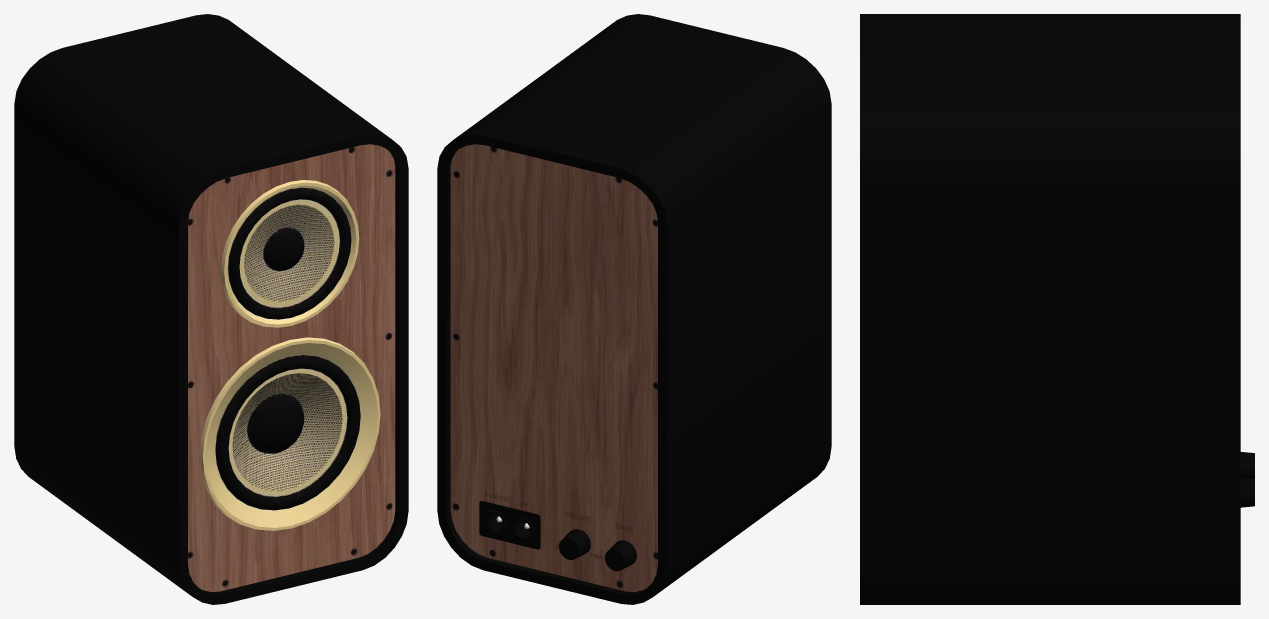
File: mdl_paprika_speaker.gltf
The picture shows the model from 3 angles, left to right: view 1: azimuth 30°, elevation 25°; view 2: azimuth 150°, elevation 25°; view 3: azimuth 270°, elevation 25°; orthographic projection. The views are drawn at different scales.
Visible parts, largest first — view 1: speaker_01; view 2: speaker_01; view 3: speaker_01.
Boxes of the visible parts, left/top/right/bottom form: speaker_01: left=14, top=14, right=408, bottom=604; speaker_01: left=437, top=14, right=831, bottom=604; speaker_01: left=860, top=14, right=1254, bottom=604.
Size of the model in its own units: 0.1 by 0.181 by 0.1287.
Materials: 1 (1 with a texture image).
